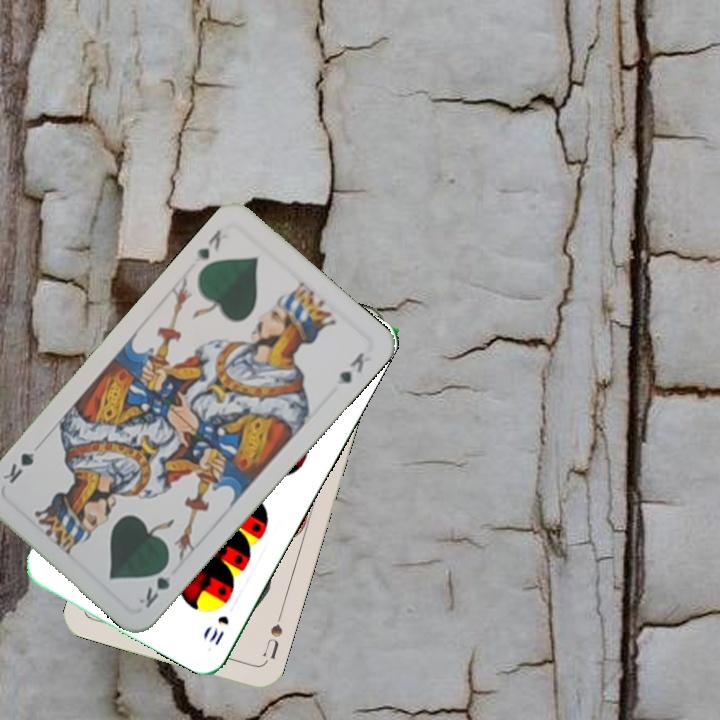GK: (134, 558, 175, 611), (190, 225, 224, 267)
S10: (205, 611, 232, 648)
SU: (258, 608, 285, 662)
